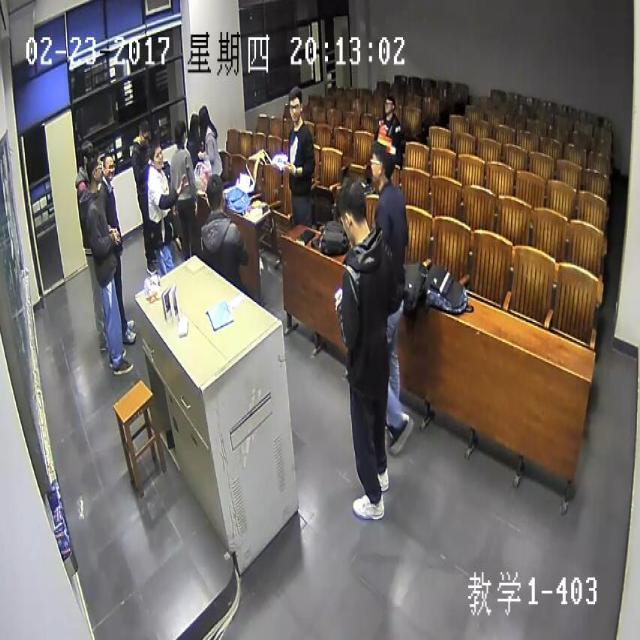person: (335, 174, 366, 240), (366, 138, 391, 182), (204, 170, 225, 214), (287, 86, 303, 124), (86, 148, 102, 184), (100, 146, 115, 177), (135, 115, 150, 146), (79, 137, 93, 170), (149, 141, 164, 169), (382, 93, 395, 121), (173, 118, 186, 145), (198, 103, 209, 129), (189, 113, 200, 137)
